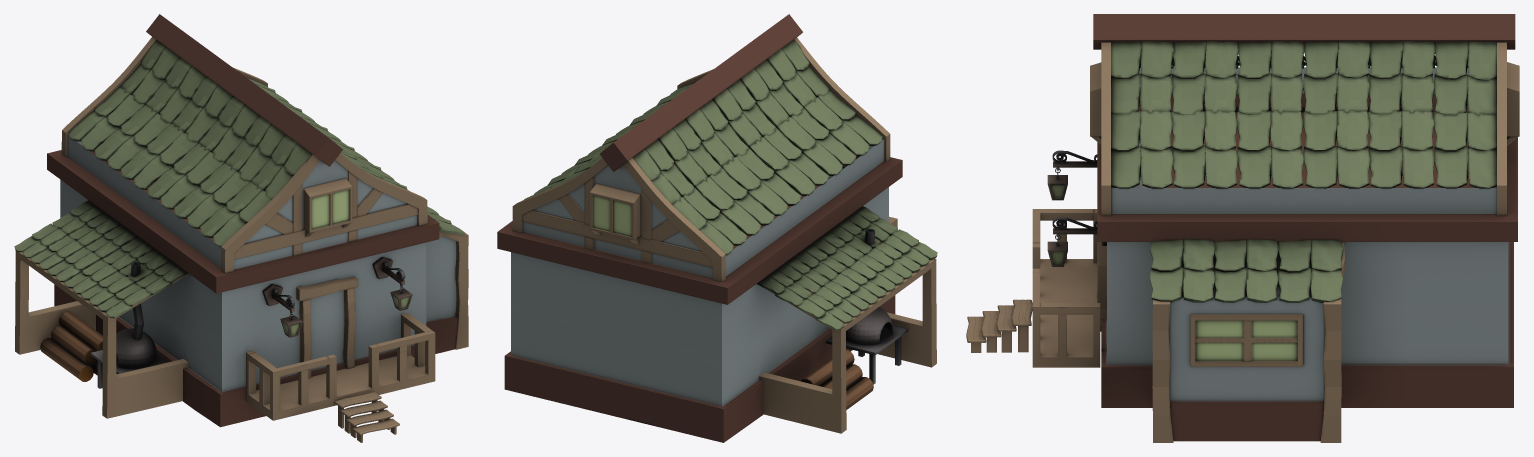
The model's file is House2.fbx.
3 views of the same model, side by side, from view 1: azimuth 30°, elevation 25°; view 2: azimuth 150°, elevation 25°; view 3: azimuth 270°, elevation 25° (orthographic). The views are drawn at different scales.
Visible parts, largest first — view 1: Casa2.001; view 2: Casa2.001; view 3: Casa2.001.
Part boxes in pixels (x1,y1,x2,y2): Casa2.001: (14,14,468,442); Casa2.001: (497,14,937,442); Casa2.001: (966,14,1519,442).
Size of the model in its own units: 628 by 462 by 700.
Materials: 1 (1 with a texture image).
